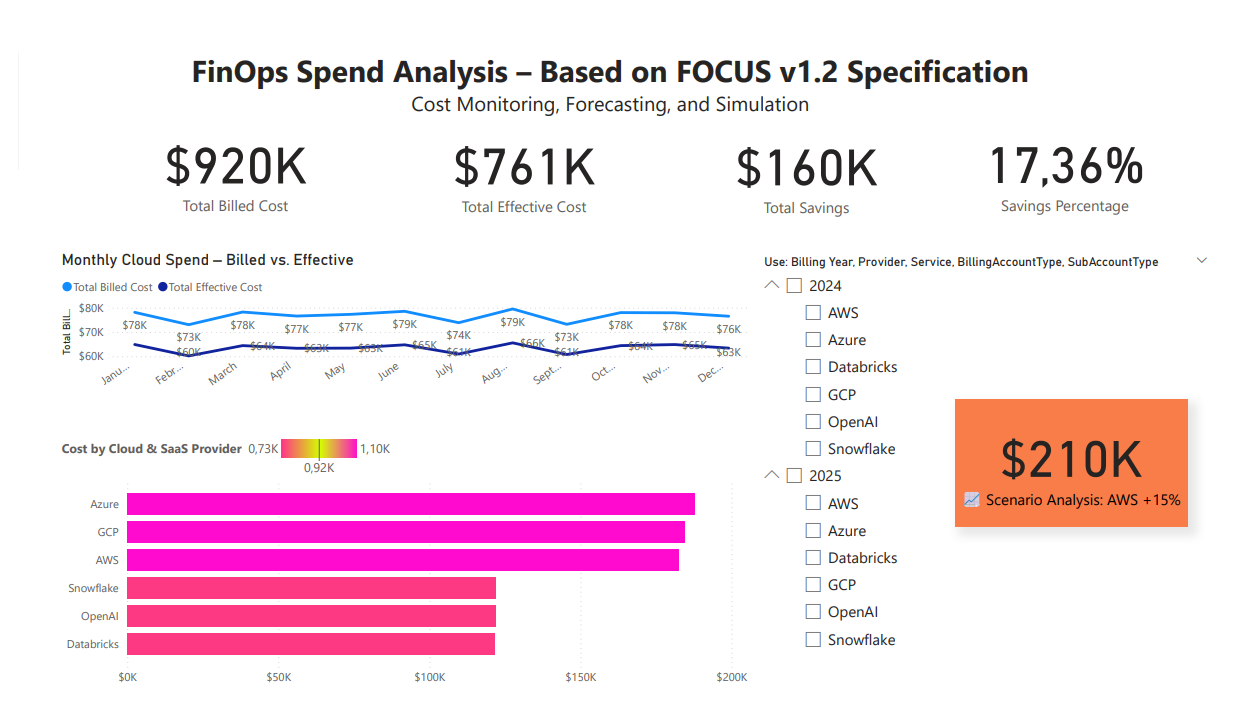

This screenshot's page, from the dashboard's own definition file:
{"tool":"powerbi","page":{"name":"Executive Summary","canvas":[1280,720],"ordinal":1},"visuals":[{"type":"card","fields":{"Values":["FinOpsMetrics.Total Effective Cost"]},"box":[410.5,86,256.4,150.9],"z":0},{"type":"card","fields":{"Values":["FinOpsMetrics.Total Billed Cost"]},"box":[112,86,238.5,149.3],"z":1000},{"type":"card","fields":{"Values":["FinOpsMetrics.Savings Percentage"]},"box":[998,68.2,235.3,183.4],"z":2000},{"type":"card","fields":{"Values":["FinOpsMetrics.Total Savings"]},"box":[705.9,77.9,267.7,168.8],"z":3000},{"type":"textbox","box":[162.3,27.6,937.9,86],"z":4000},{"type":"lineChart","title":"Monthly Cloud Spend – Billed vs. Effective","fields":{"Category":["focus_simulated_dataset_focus_1.2.ChargePeriodStart.Variation.Date Hierarchy.Month"],"Y":["FinOpsMetrics.Total Billed Cost","FinOpsMetrics.Total Effective Cost"]},"box":[40.6,246.7,744.8,157.4],"z":5000},{"type":"barChart","fields":{"Category":["focus_simulated_dataset_focus_1.2.ProviderName"],"Y":["FinOpsMetrics.Total Billed Cost"]},"box":[40.6,439.8,741.6,280.7],"z":6000},{"type":"slicer","fields":{"Values":["focus_simulated_dataset_focus_1.2.ChargePeriodStart.Variation.Date Hierarchy.Year","focus_simulated_dataset_focus_1.2.ProviderName"]},"box":[782.2,246.7,498.2,454.4],"z":9000},{"type":"card","fields":{"Values":["focus_simulated_dataset_focus_1.2.What if? AWS Cost +15% Forecast"]},"box":[998.2,405.4,248.2,135.7],"z":10000}]}

Visuals, with their boxes in screenshot pixels (x1, y1, x2, y2), scaled from the page's 1280x720 canvas onto the 1236x712 screenshot:
card - FinOpsMetrics.Total Effective Cost: bbox(396, 85, 644, 234)
card - FinOpsMetrics.Total Billed Cost: bbox(108, 85, 338, 233)
card - FinOpsMetrics.Savings Percentage: bbox(964, 67, 1191, 249)
card - FinOpsMetrics.Total Savings: bbox(682, 77, 940, 244)
textbox: bbox(157, 27, 1062, 112)
"Monthly Cloud Spend – Billed vs. Effective" lineChart: bbox(39, 244, 758, 400)
barChart - focus_simulated_dataset_focus_1.2.ProviderName x FinOpsMetrics.Total Billed Cost: bbox(39, 435, 755, 711)
slicer - focus_simulated_dataset_focus_1.2.ChargePeriodStart.Variation.Date Hierarchy.Year x focus_simulated_dataset_focus_1.2.ProviderName: bbox(755, 244, 1235, 693)
card - focus_simulated_dataset_focus_1.2.What if? AWS Cost +15% Forecast: bbox(964, 401, 1204, 535)
